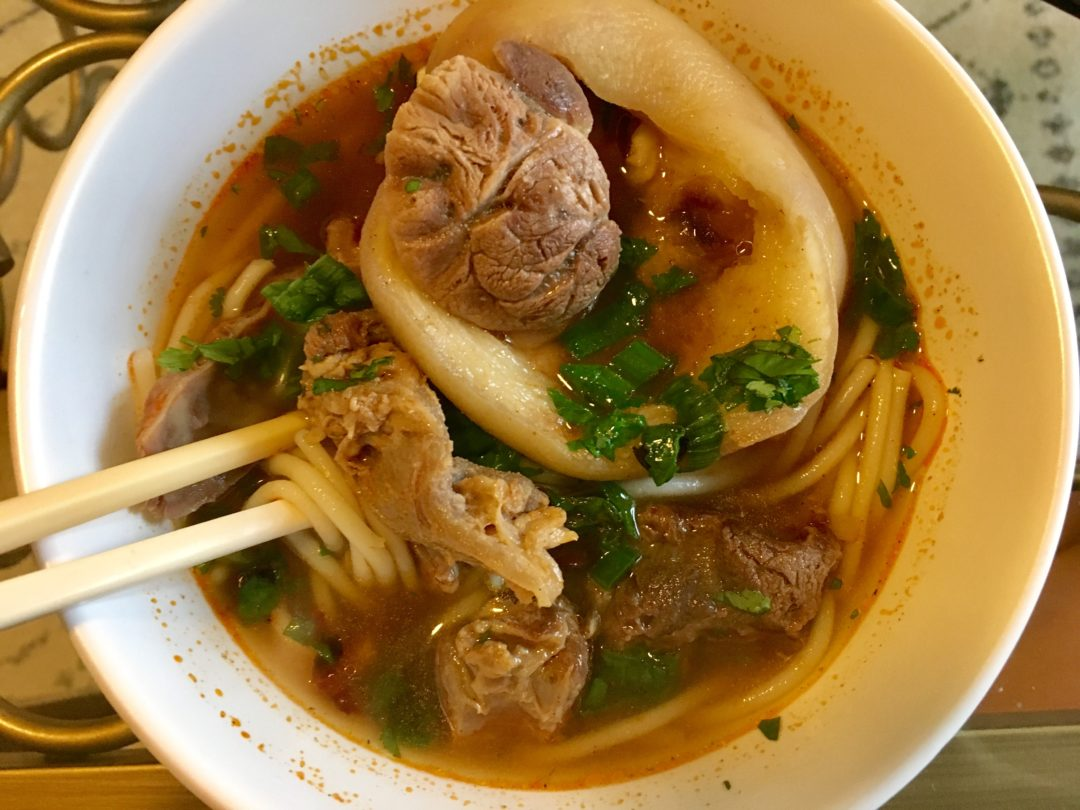beef: (595, 528, 838, 647), (435, 604, 597, 745)
pork: (410, 1, 832, 462), (298, 323, 441, 543)
